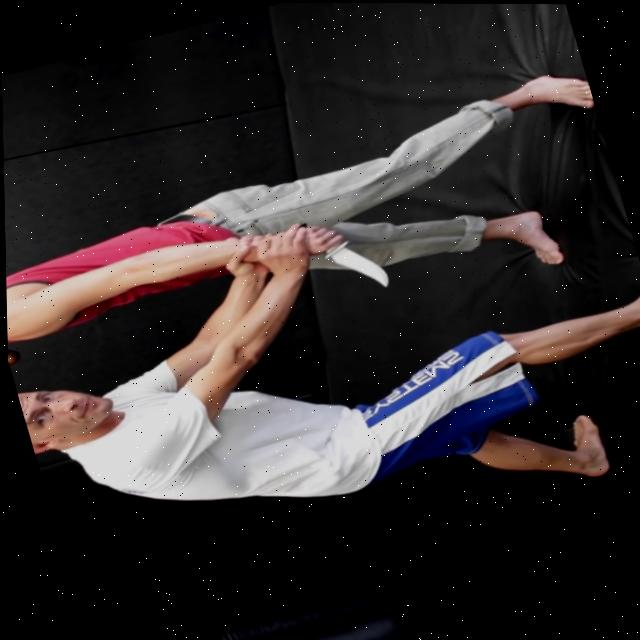knife: (321, 231, 397, 299)
